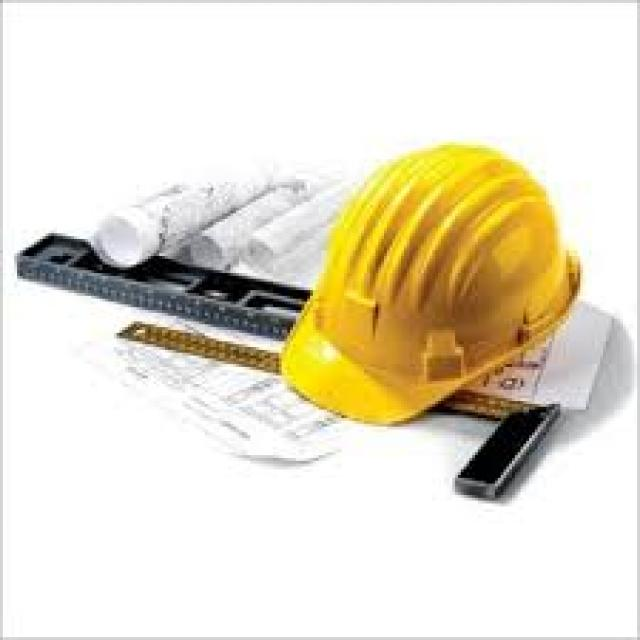Safety-Helmet: (256, 125, 606, 438)
